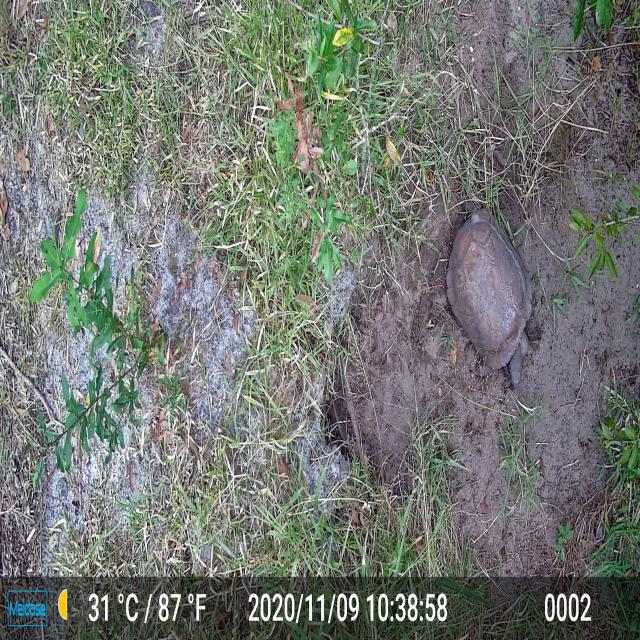tortoise: (444, 203, 546, 401)
